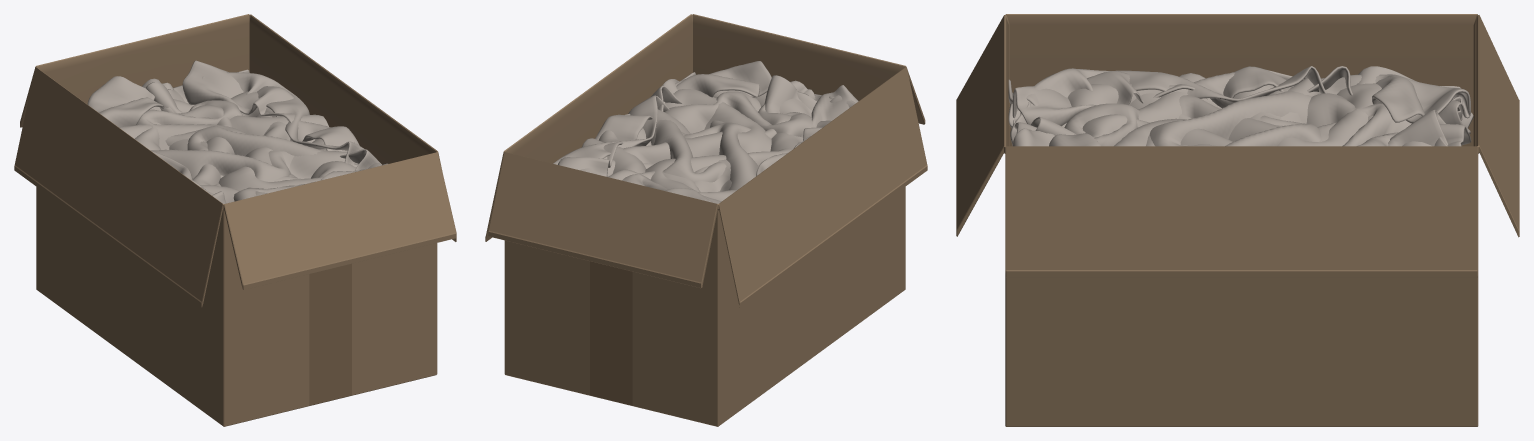
The picture shows the model from 3 angles, left to right: view 1: azimuth 30°, elevation 25°; view 2: azimuth 150°, elevation 25°; view 3: azimuth 270°, elevation 25°; orthographic projection. The views are drawn at different scales.
Parts seen in each view (by area): view 1: pCube361, pPlane17, pPlane19, pPlane18, pPlane20; view 2: pCube361, pPlane17, pPlane19, pPlane18, pPlane20; view 3: pCube361, pPlane19, pPlane17, pPlane20, pPlane18.
Part boxes in pixels (x1,y1,x2,y2): pCube361: (14, 14, 456, 426); pPlane17: (87, 60, 381, 201); pPlane19: (99, 72, 380, 203); pPlane18: (168, 89, 368, 190); pPlane20: (118, 69, 387, 203); pCube361: (485, 14, 927, 426); pPlane17: (558, 74, 855, 192); pPlane19: (553, 61, 858, 203); pPlane18: (581, 72, 834, 192); pPlane20: (580, 79, 816, 203); pCube361: (956, 14, 1519, 426); pPlane19: (1011, 66, 1462, 146); pPlane17: (1013, 66, 1471, 146); pPlane20: (1008, 73, 1462, 146); pPlane18: (1008, 66, 1473, 146).
Size of the model in its own units: 78.17 by 65.43 by 119.
